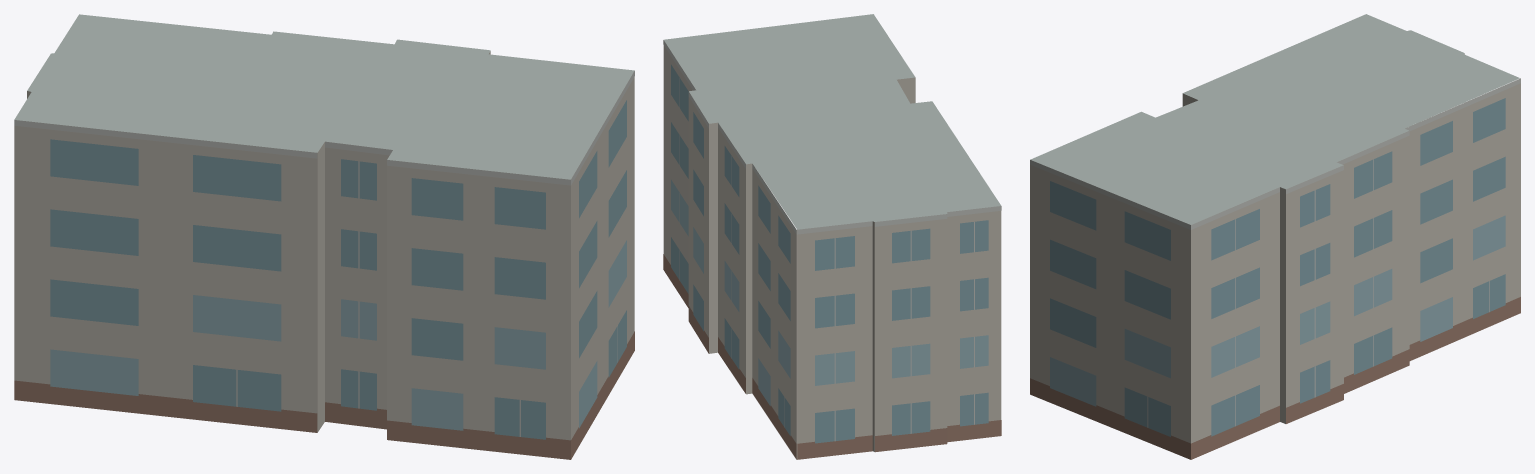
File: survey-upis-32637914.glb
3 renders of one model, left to right at view 1: azimuth 30°, elevation 25°; view 2: azimuth 150°, elevation 25°; view 3: azimuth 270°, elevation 25°, orthographic. The views are drawn at different scales.
Visible parts, largest first — view 1: survey-upis-32637914.tmp; view 2: survey-upis-32637914.tmp; view 3: survey-upis-32637914.tmp.
Boxes of the visible parts, bbox=[...] form: survey-upis-32637914.tmp: bbox=[14, 14, 634, 459]; survey-upis-32637914.tmp: bbox=[663, 14, 1001, 459]; survey-upis-32637914.tmp: bbox=[1030, 14, 1520, 459].
Size of the model in its own units: 22.37 by 11.6 by 21.98.
